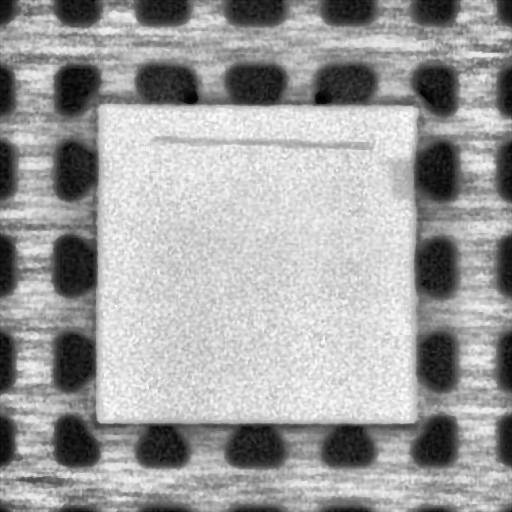DIE_CRACK: (152, 127, 371, 150)
